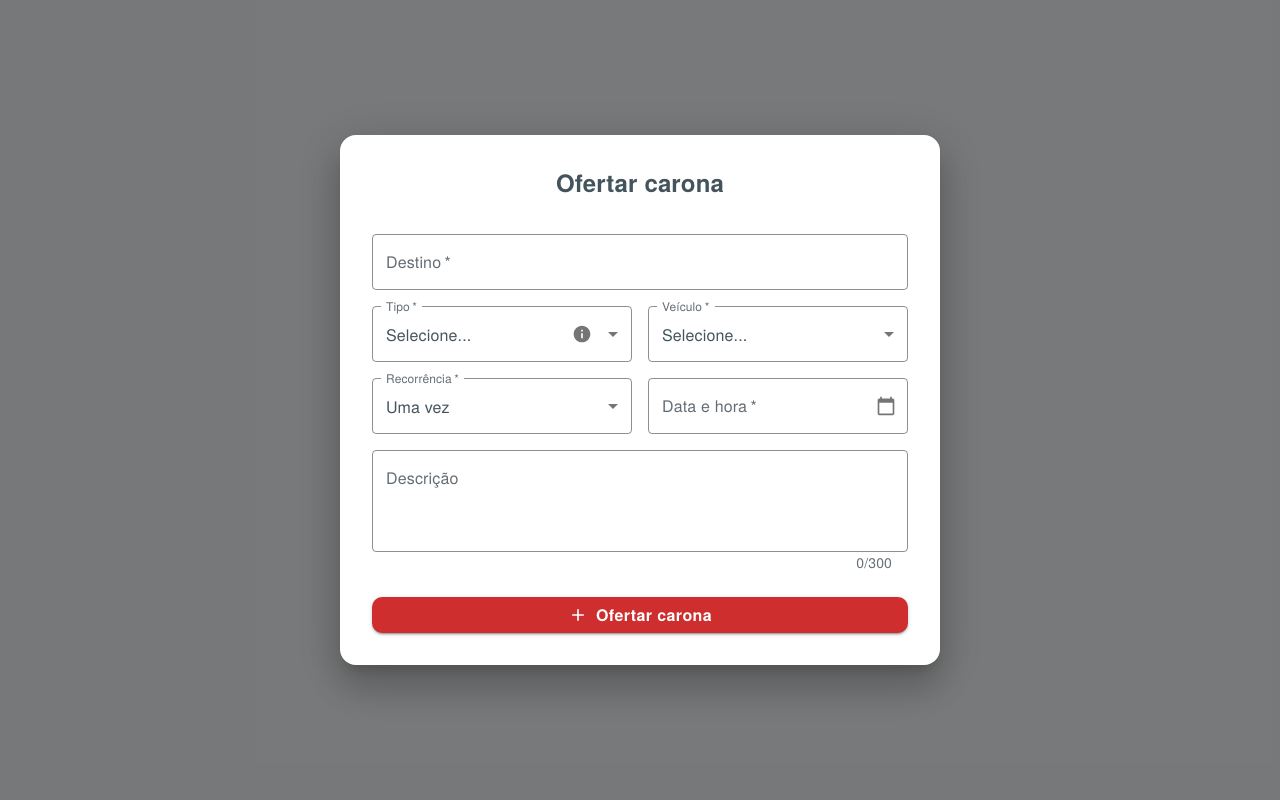
Test: RideFormDialog › should suggest the stored neighborhood and the Fatec as soon as the destination gets the focus
Expected: the heading "Ofertar carona" is shown, [556,165,724,199]
Step 1. Click the dropdown labelled "Destino *" → (640, 262), box [381,243,899,281]
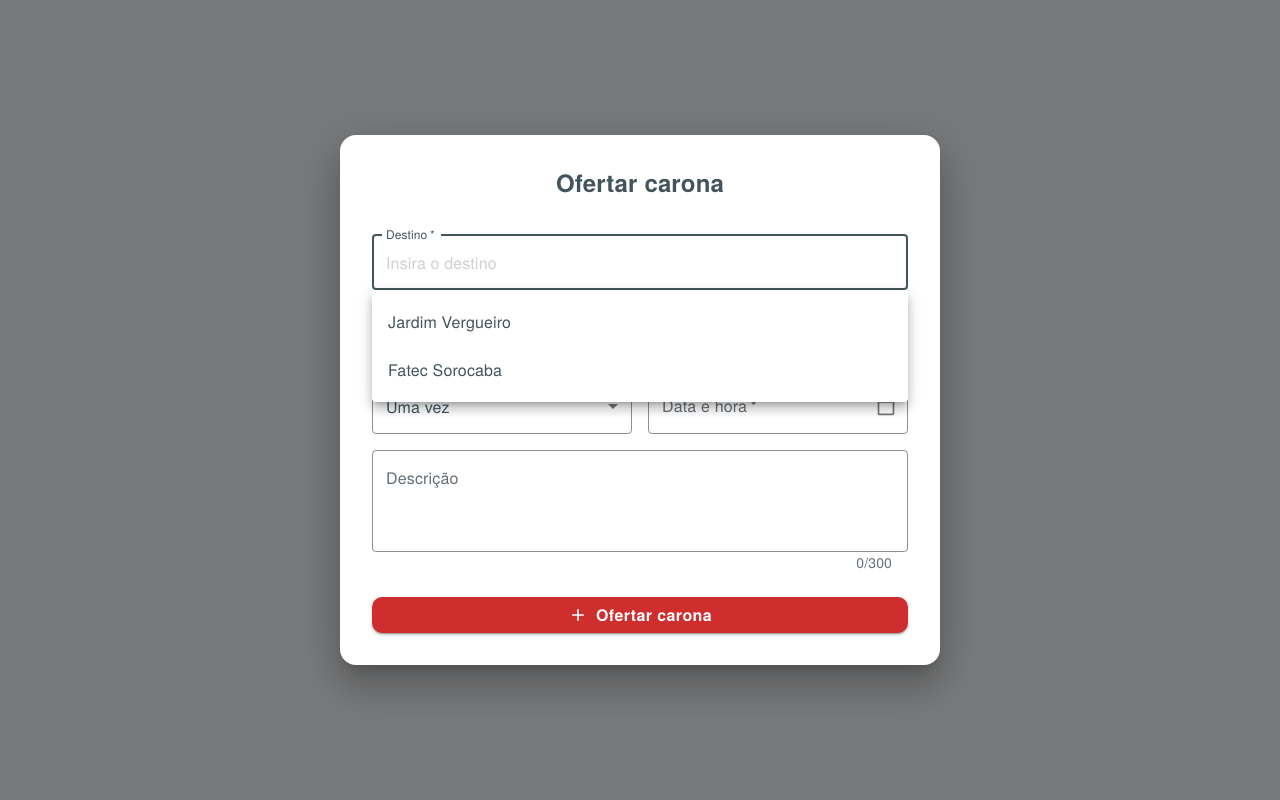
Result: the option "Fatec Sorocaba" is shown at [388,358,502,381]
Result: the options read "Jardim Vergueiro", "Fatec Sorocaba", in this order at [388,310,511,333]; [388,358,502,381]
